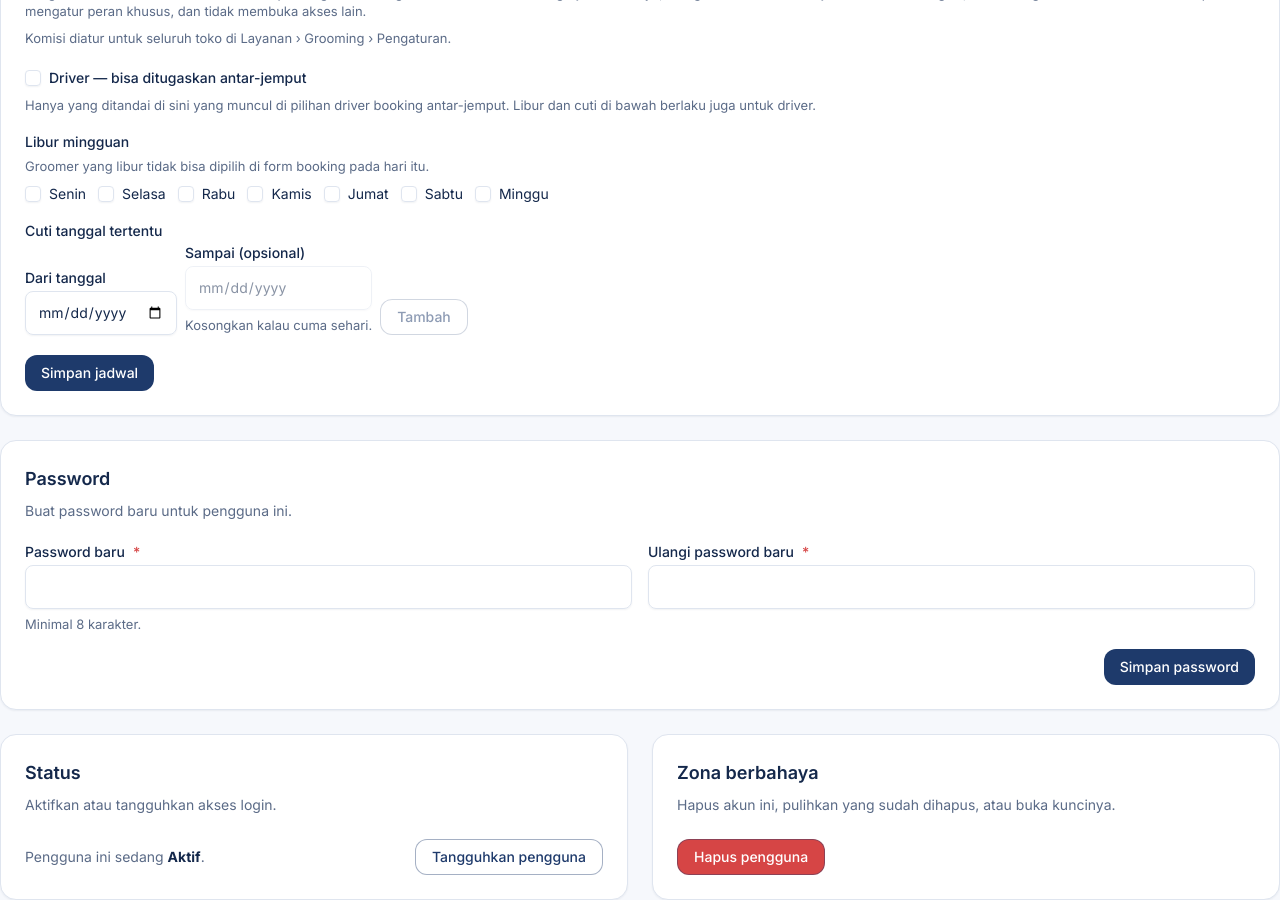
UserEditForm — Tangguhkan pengguna › sends nothing when the dialog is cancelled
(page scrolled)
Click the button "Tangguhkan pengguna" at {"x": 509, "y": 857}, box [415,839,603,875]
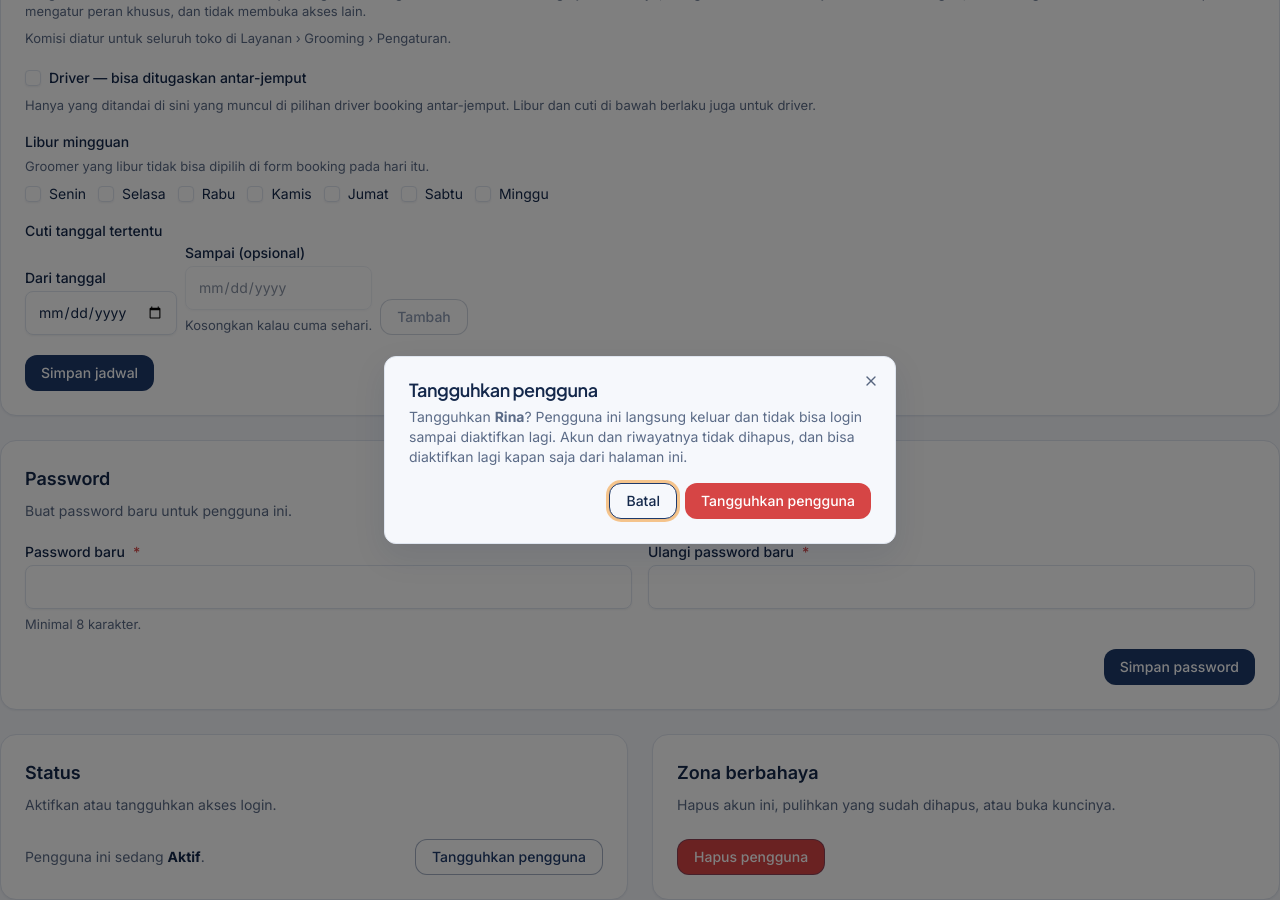
Click the button "Batal" at {"x": 643, "y": 501}, box [610,483,677,519]
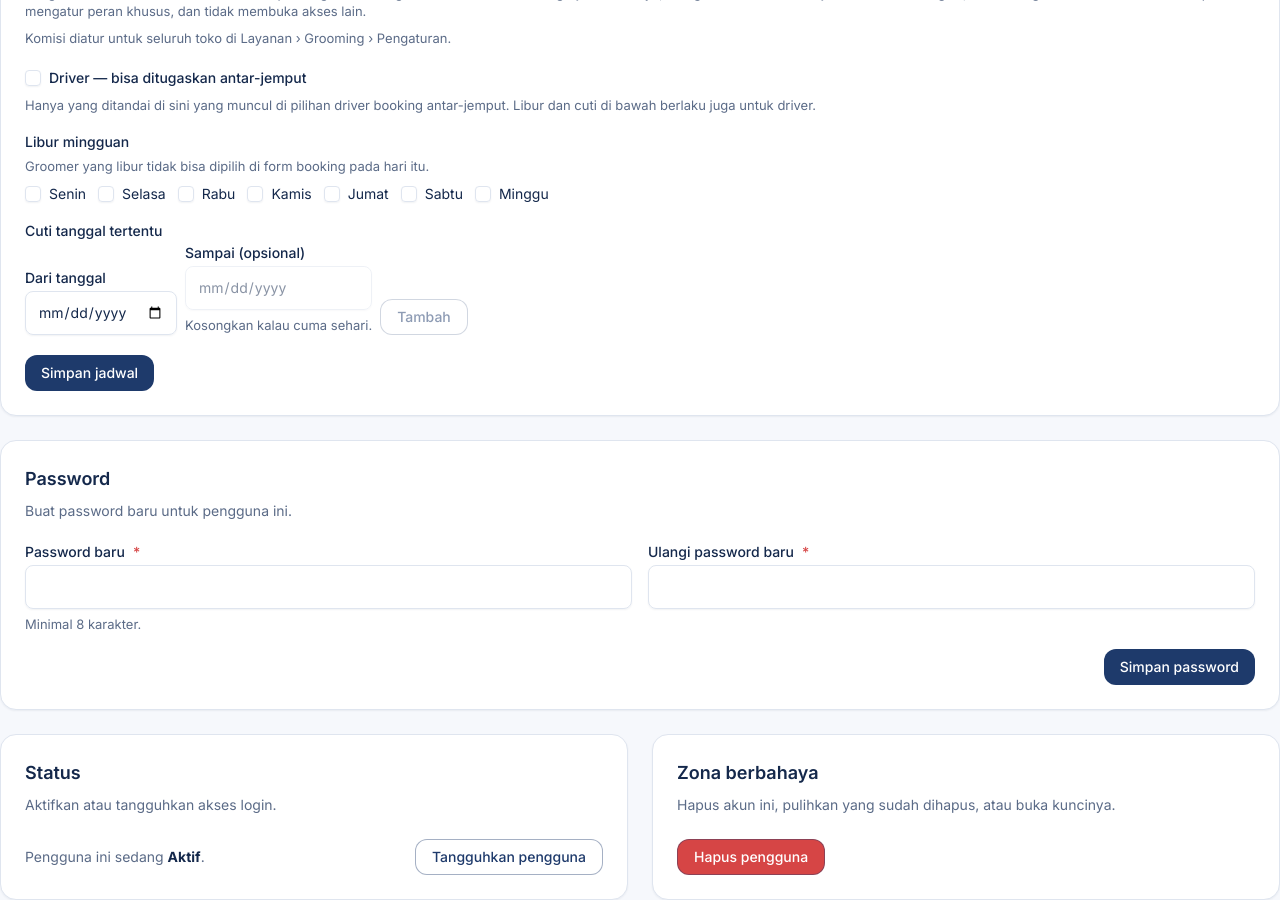
Expected: the dialog is gone
